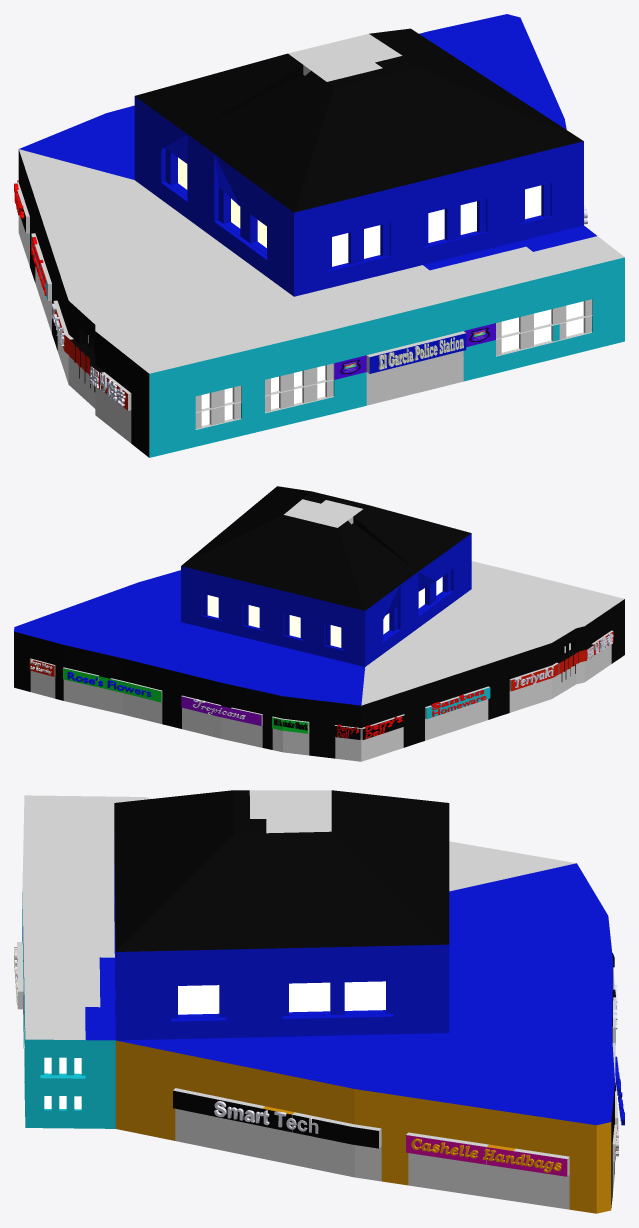
Rendered from el_garcia_boulevard_shops_3.fbx.
3 renders of one model, top to bottom at view 1: azimuth 30°, elevation 25°; view 2: azimuth 150°, elevation 25°; view 3: azimuth 270°, elevation 25°, orthographic. The views are drawn at different scales.
Visible parts, largest first — view 1: Plane, Text.013, Text.010; view 2: Plane, Text.001; view 3: Plane, Text.017, Text.016.
Part boxes in pixels (x1,y1,x2,y2): Plane: (15,14,624,457); Text.013: (378,337,463,369); Text.010: (89,366,125,406); Plane: (14,486,624,761); Text.001: (67,671,151,696); Plane: (17,790,618,1213); Text.017: (411,1138,561,1172); Text.016: (214,1101,318,1133).
Size of the model in its own units: 798 by 268 by 620.
